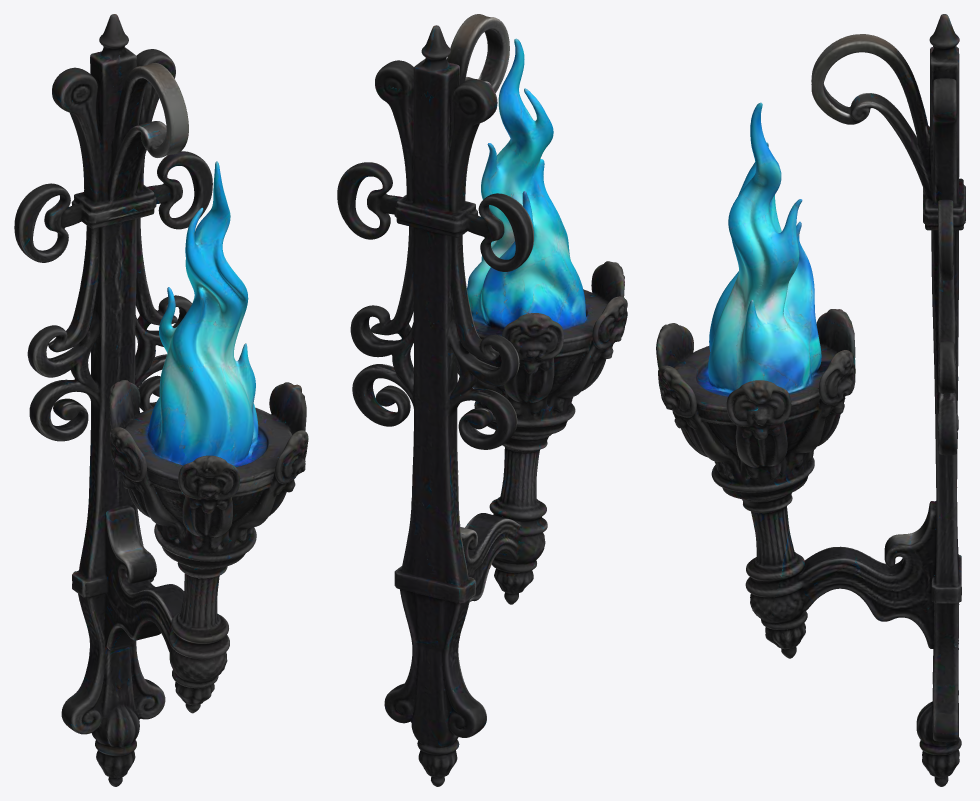
File: gothic-wall-torch.glb
3 views of the same model, side by side, from view 1: azimuth 30°, elevation 25°; view 2: azimuth 150°, elevation 25°; view 3: azimuth 270°, elevation 25° (orthographic).
Parts seen in each view (by area): view 1: Object_5, Object_4, Object_6, Object_7; view 2: Object_6, Object_4, Object_5, Object_7; view 3: Object_4, Object_5, Object_6, Object_7.
Boxes of the visible parts, left/top/right/bottom form: Object_5: left=14, top=20, right=306, bottom=774; Object_4: left=22, top=14, right=308, bottom=786; Object_6: left=15, top=14, right=259, bottom=785; Object_7: left=110, top=166, right=278, bottom=706; Object_6: left=337, top=18, right=591, bottom=786; Object_4: left=351, top=14, right=624, bottom=780; Object_5: left=346, top=38, right=627, bottom=774; Object_7: left=476, top=46, right=618, bottom=578; Object_4: left=656, top=14, right=961, bottom=786; Object_5: left=712, top=19, right=961, bottom=775; Object_6: left=765, top=14, right=965, bottom=786; Object_7: left=755, top=116, right=792, bottom=657.
Bounding box in the file's own units: 0.1977 × 0.75 × 0.273.
Materials: 1 (1 with a texture image).
